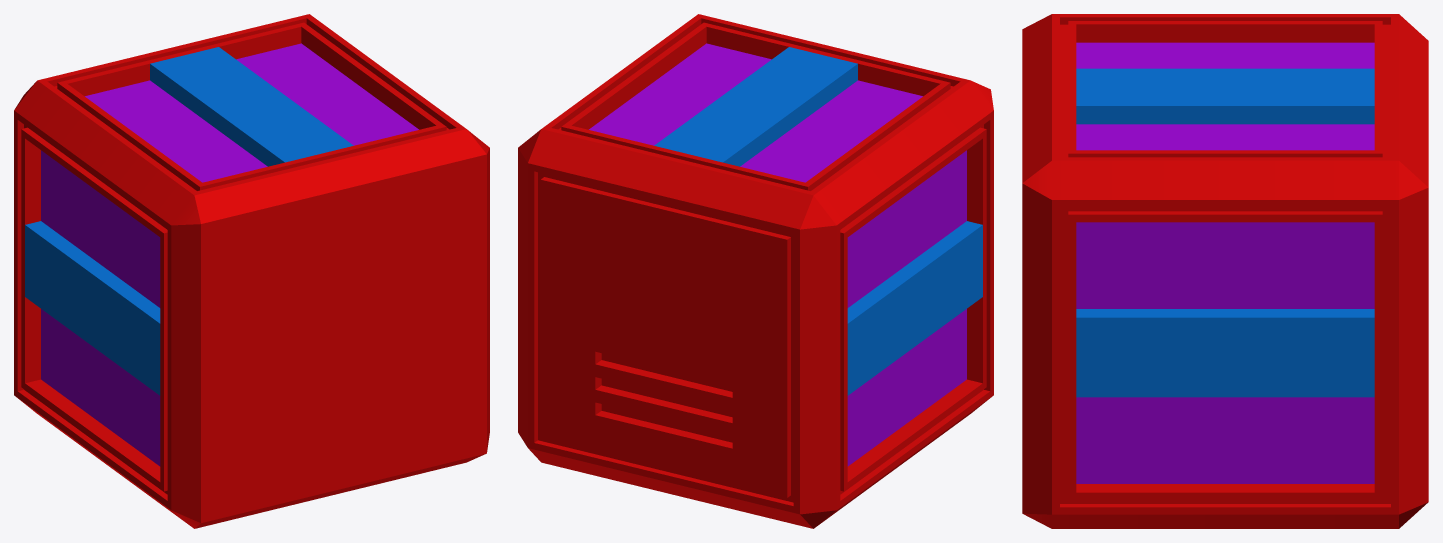
Rendered from non display box.fbx.
3 views of the same model, side by side, from view 1: azimuth 30°, elevation 25°; view 2: azimuth 150°, elevation 25°; view 3: azimuth 270°, elevation 25° (orthographic). The views are drawn at different scales.
Visible parts, largest first — view 1: display box_01; view 2: display box_01; view 3: display box_01.
Part boxes in pixels (x1,y1,x2,y2): display box_01: (14, 14, 489, 528); display box_01: (518, 14, 993, 528); display box_01: (1022, 14, 1428, 528).
Bounding box in the file's own units: 10 × 10 × 10.
